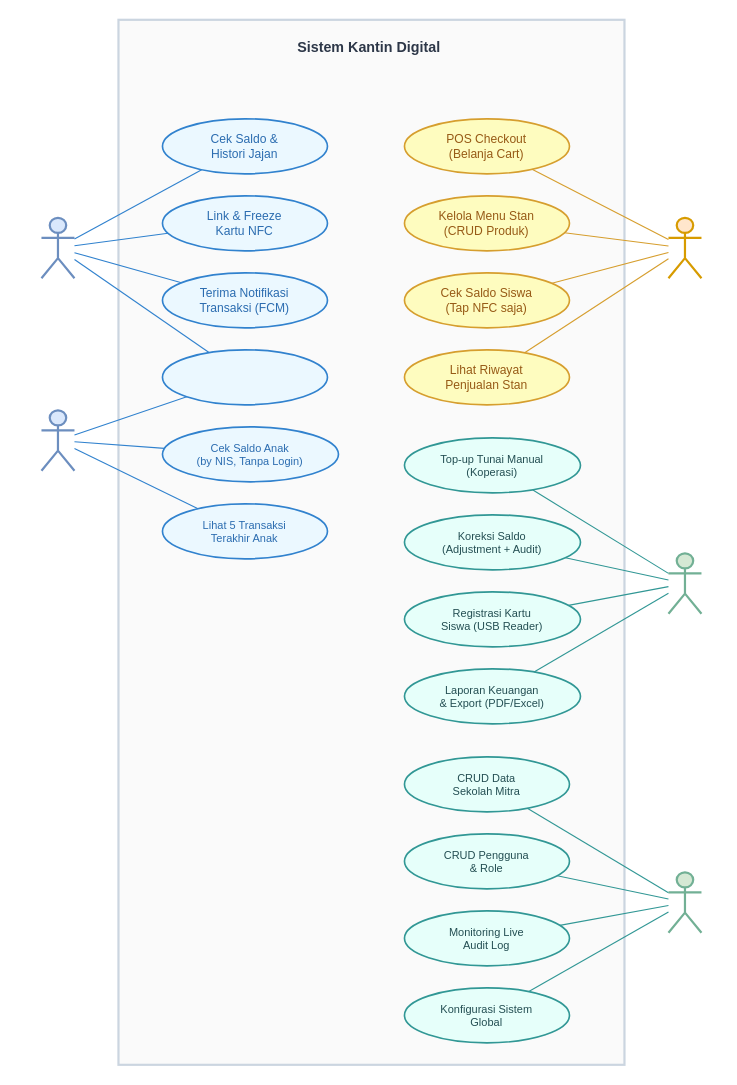
Some shapes in this 737 by 1085 pixel diagram are drawn without their labels. The shapes that lost their labels are listed below. From the top down, each one's centre as x and y in pixels, then its label:
point (57, 247): 👦 Siswa
point (684, 247): 👵 Petugas Kantin
point (244, 376): Top-up Online (Midtrans)
point (57, 440): 👩 Orang Tua
point (684, 583): 👨‍💼 Admin Keuangan
point (684, 902): 👑 Super Admin
